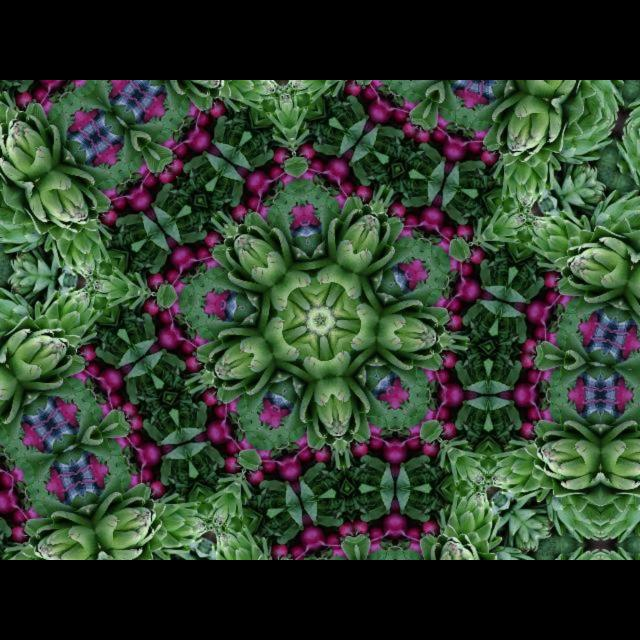Flower: (1, 80, 640, 560), (398, 248, 440, 296)
